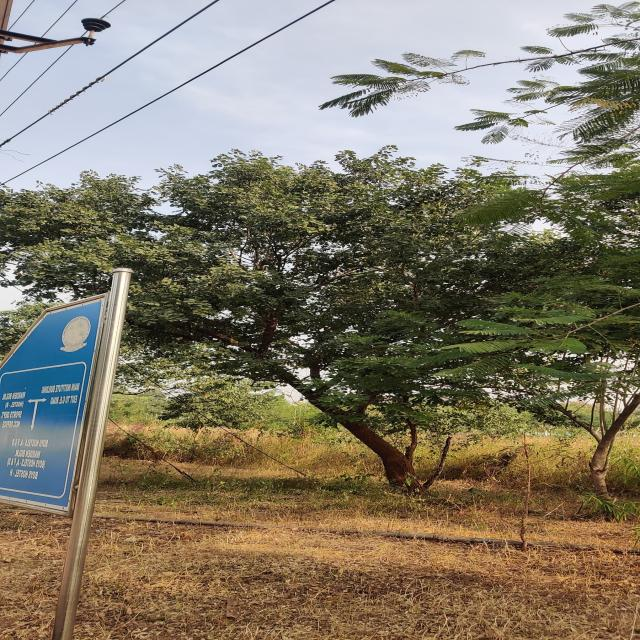Devakanchan tree: (153, 173, 489, 401)
